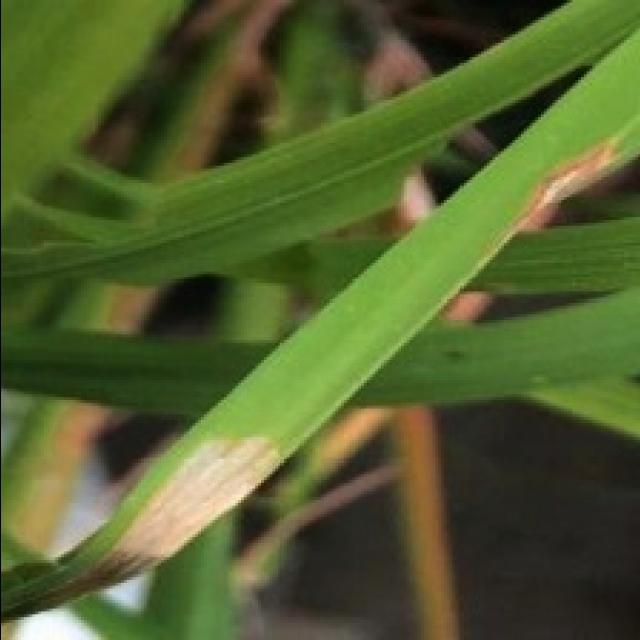Unhealthy: (0, 435, 285, 625), (161, 1, 296, 178), (12, 402, 106, 558), (398, 406, 454, 640), (515, 137, 618, 231), (96, 285, 163, 332)
